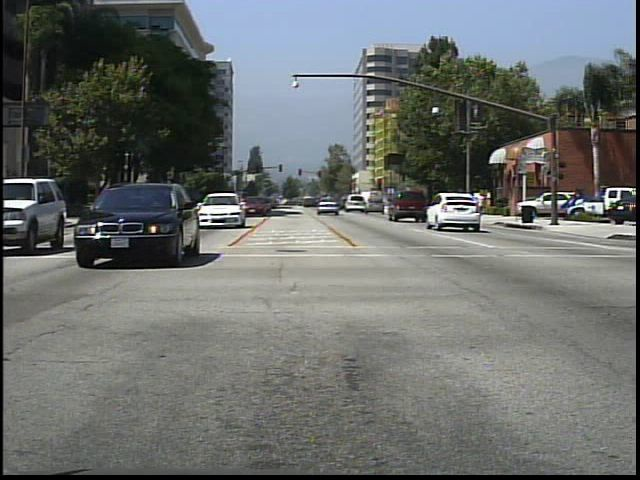person: (473, 190, 487, 218)
